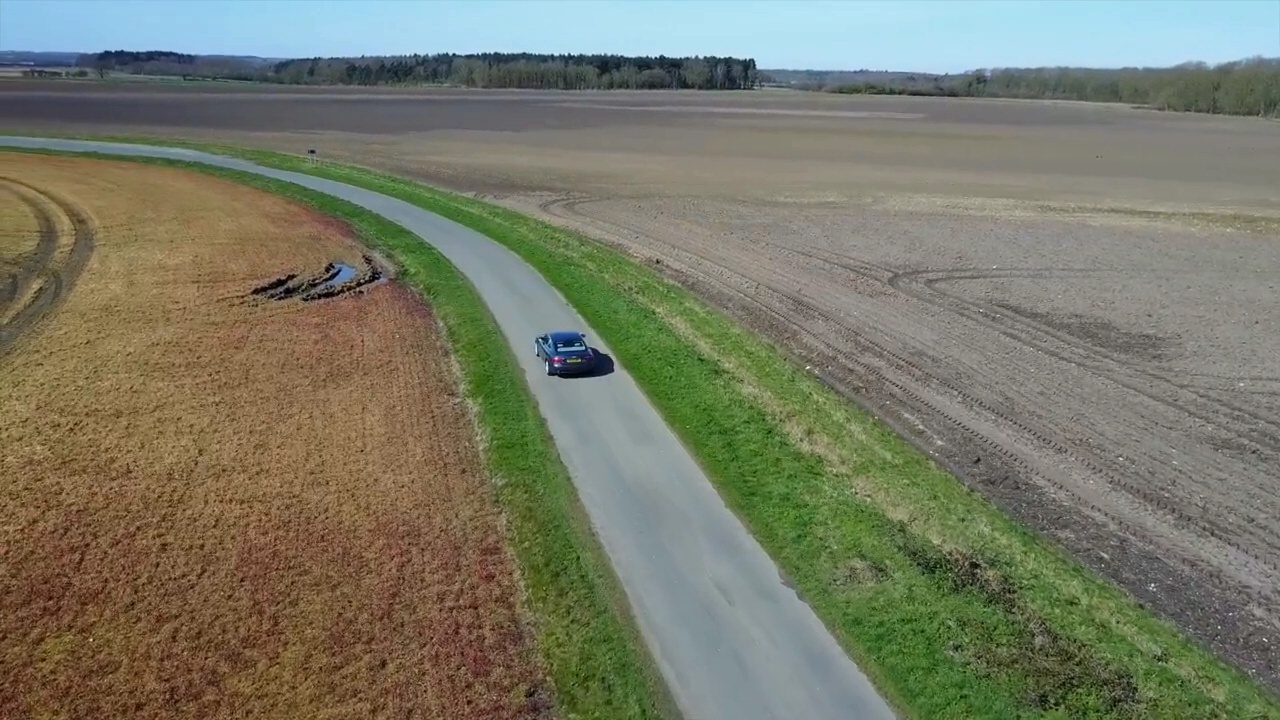araba: (530, 327, 596, 377)
